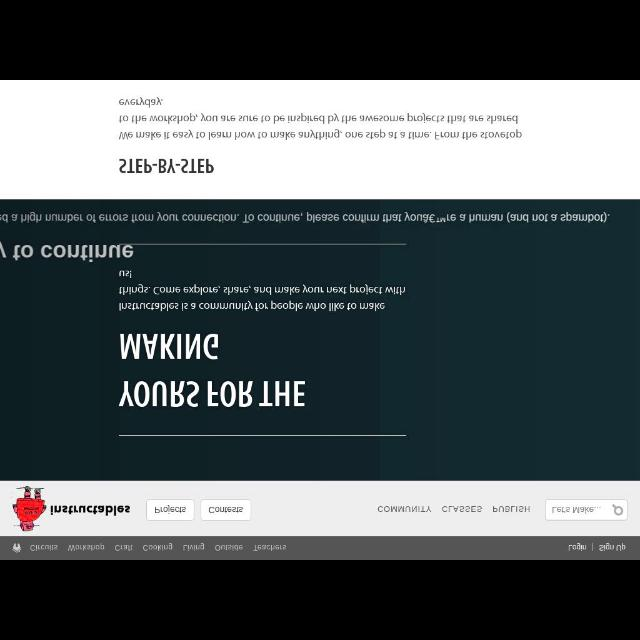icon: (612, 504, 624, 514), (12, 544, 22, 552)
image: (13, 486, 47, 530)
input: (546, 500, 628, 520)
text: (2, 212, 610, 222), (119, 128, 521, 140), (118, 382, 306, 406), (120, 114, 518, 124), (119, 284, 405, 296), (118, 300, 386, 312), (118, 334, 218, 360), (13, 244, 133, 262), (119, 158, 213, 172), (50, 505, 130, 515), (120, 96, 162, 108), (553, 506, 601, 514), (68, 542, 104, 552), (154, 504, 186, 514), (378, 506, 430, 512), (209, 506, 243, 514), (254, 544, 286, 552), (442, 506, 482, 512), (492, 506, 530, 512), (30, 544, 58, 552), (144, 543, 172, 551), (215, 544, 243, 552), (183, 542, 204, 552), (600, 543, 626, 551), (568, 542, 586, 552), (115, 544, 133, 552), (118, 270, 132, 280)
textbutton: (201, 500, 251, 520), (146, 500, 194, 520)
toolbar: (1, 536, 640, 560)
